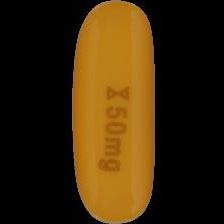0093-5741: (0, 0, 224, 224)
